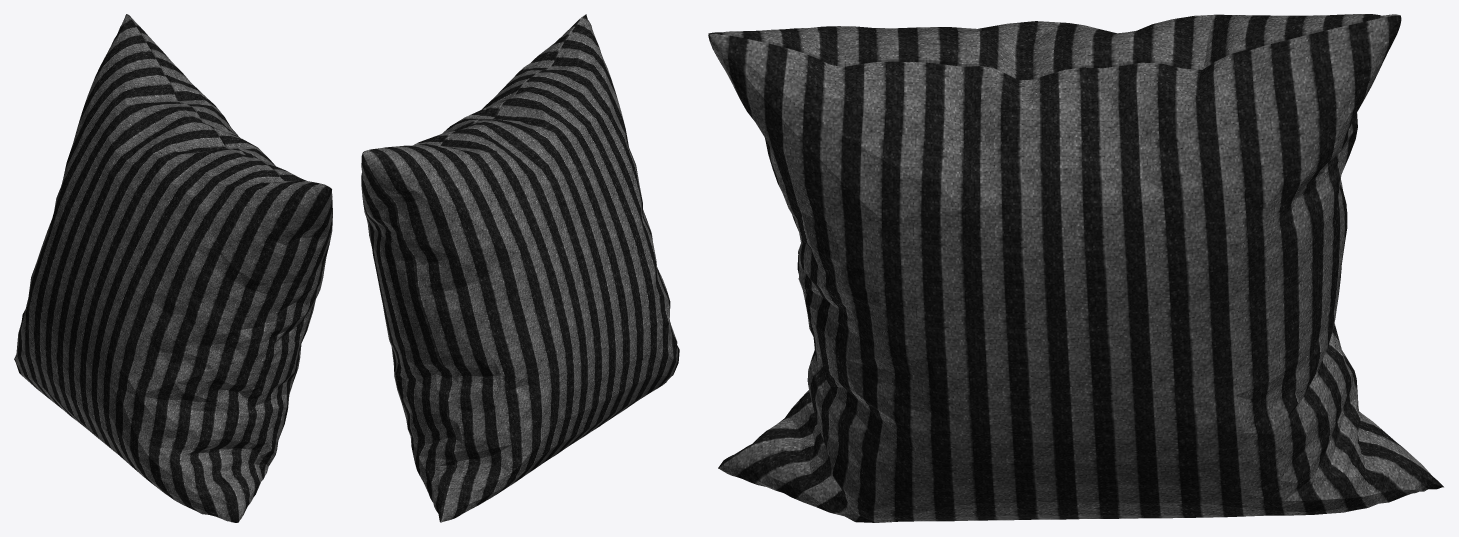
Rendered from striped-pillow.obj.
The picture shows the model from 3 angles, left to right: view 1: azimuth 30°, elevation 25°; view 2: azimuth 150°, elevation 25°; view 3: azimuth 270°, elevation 25°; orthographic projection. The views are drawn at different scales.
Parts seen in each view (by area): view 1: Lifestyle_071; view 2: Lifestyle_071; view 3: Lifestyle_071.
Boxes of the visible parts, box(x1,y1,x2,y2) form: Lifestyle_071: box(14, 14, 332, 522); Lifestyle_071: box(361, 14, 679, 522); Lifestyle_071: box(708, 14, 1443, 522).
Size of the model in its own units: 25.47 by 40.39 by 49.32.
1 material, 1 textured.
